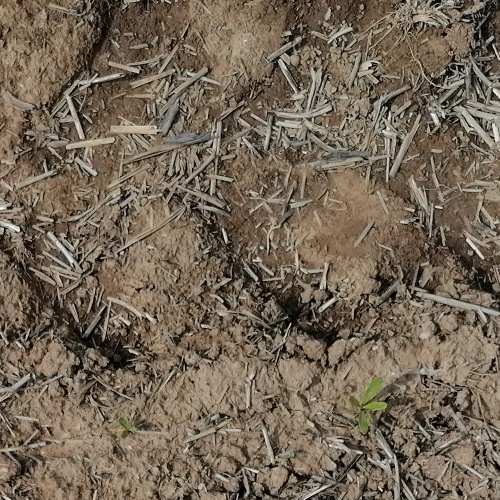beet: (349, 375, 389, 435), (118, 413, 146, 435)
